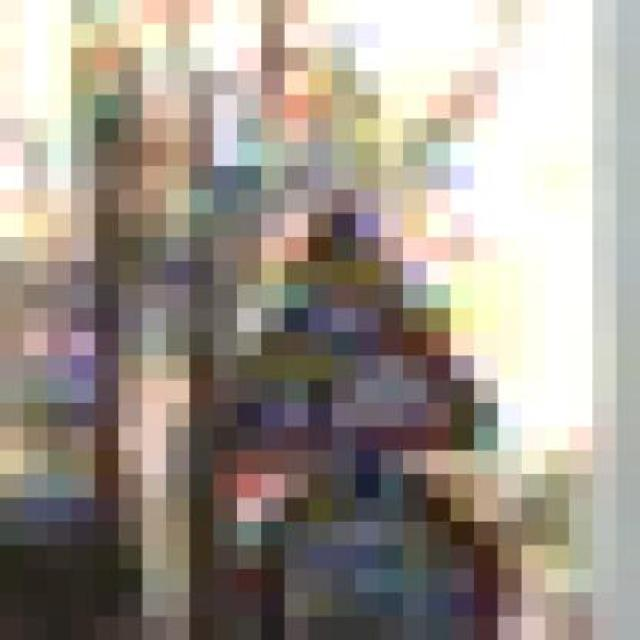Dangerous Rright Curve Ahead: (165, 166, 498, 474)
